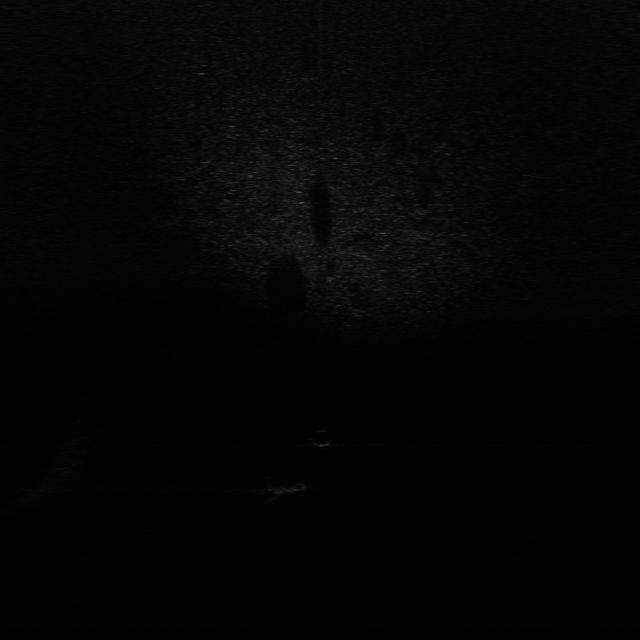ball: (310, 428, 336, 448)
square cage: (258, 478, 320, 497)
